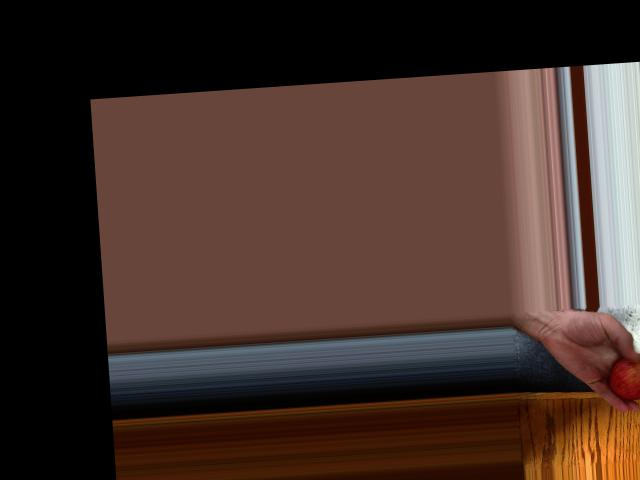apple: (605, 350, 640, 400)
